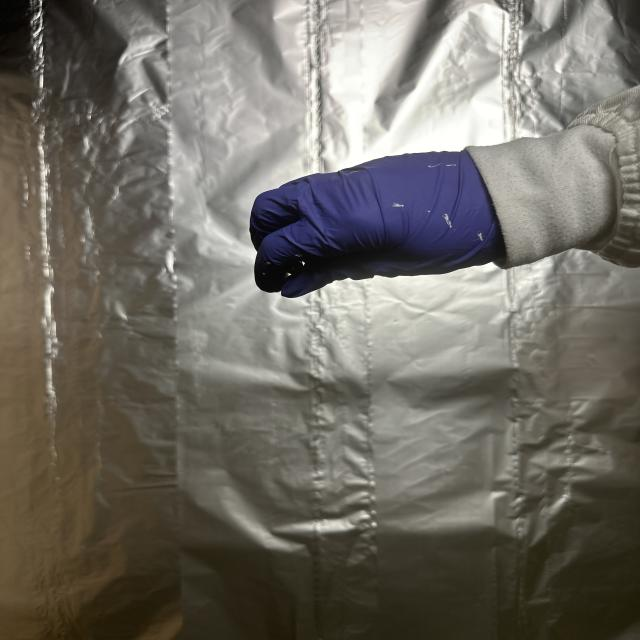gloves_contaminated: (250, 152, 504, 297)
